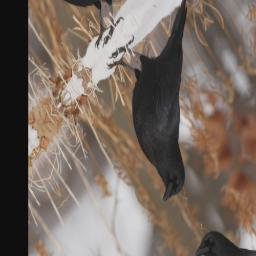Crow: (89, 0, 254, 213)
